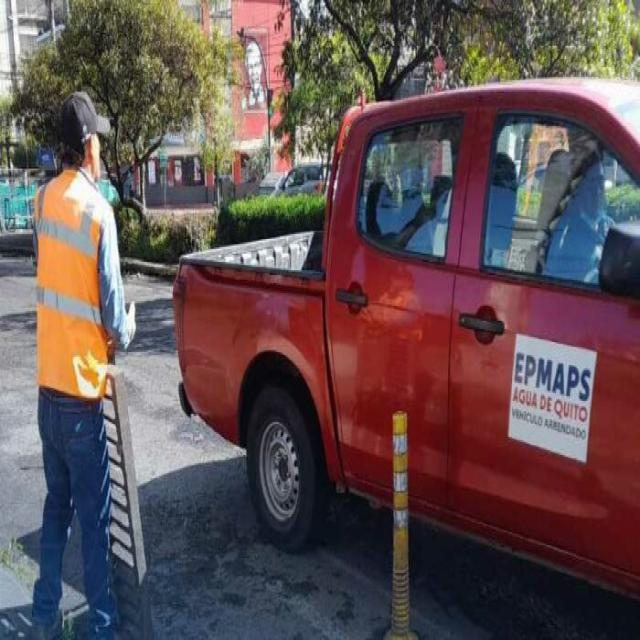CMT: (170, 53, 639, 638)
